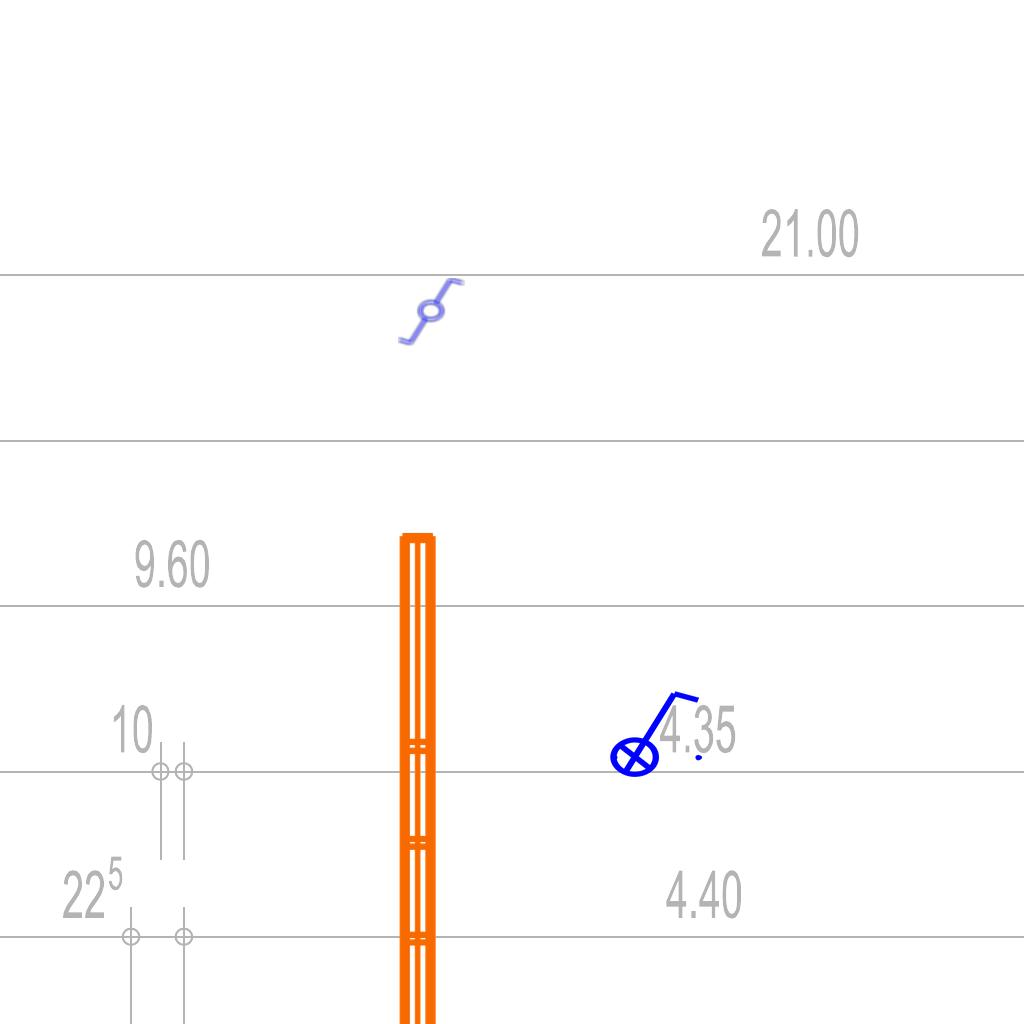Ambulanz_Pendelleuchte_LED: (387, 522, 499, 1024)
Ausschalter_beleuchtet: (596, 683, 708, 779)
Wechselschalter: (396, 276, 474, 348)
